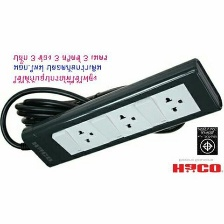three_eye_plug: (15, 52, 224, 172)
